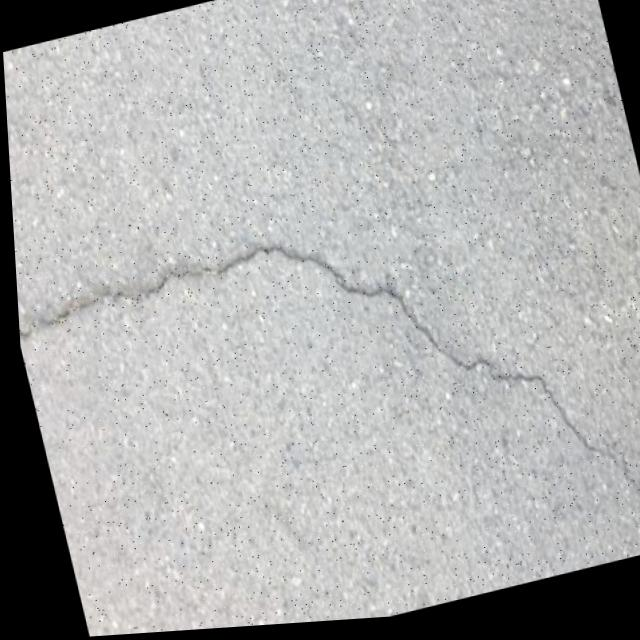Crack: (9, 157, 640, 640)
